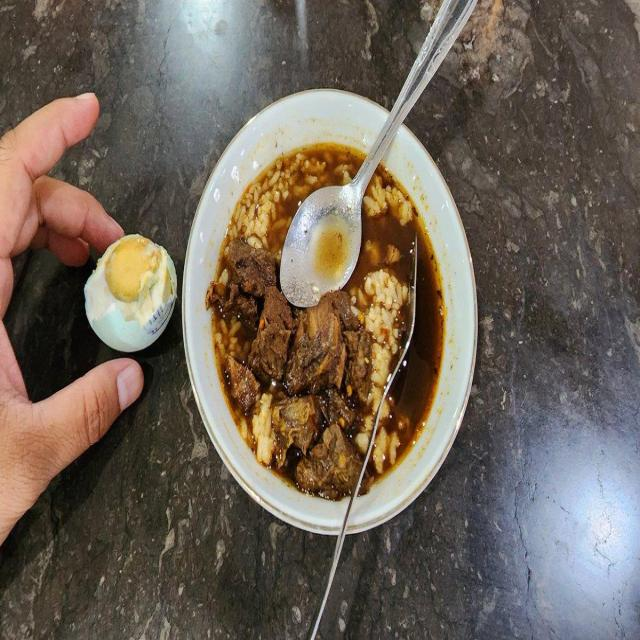Rawon: (221, 141, 449, 500)
